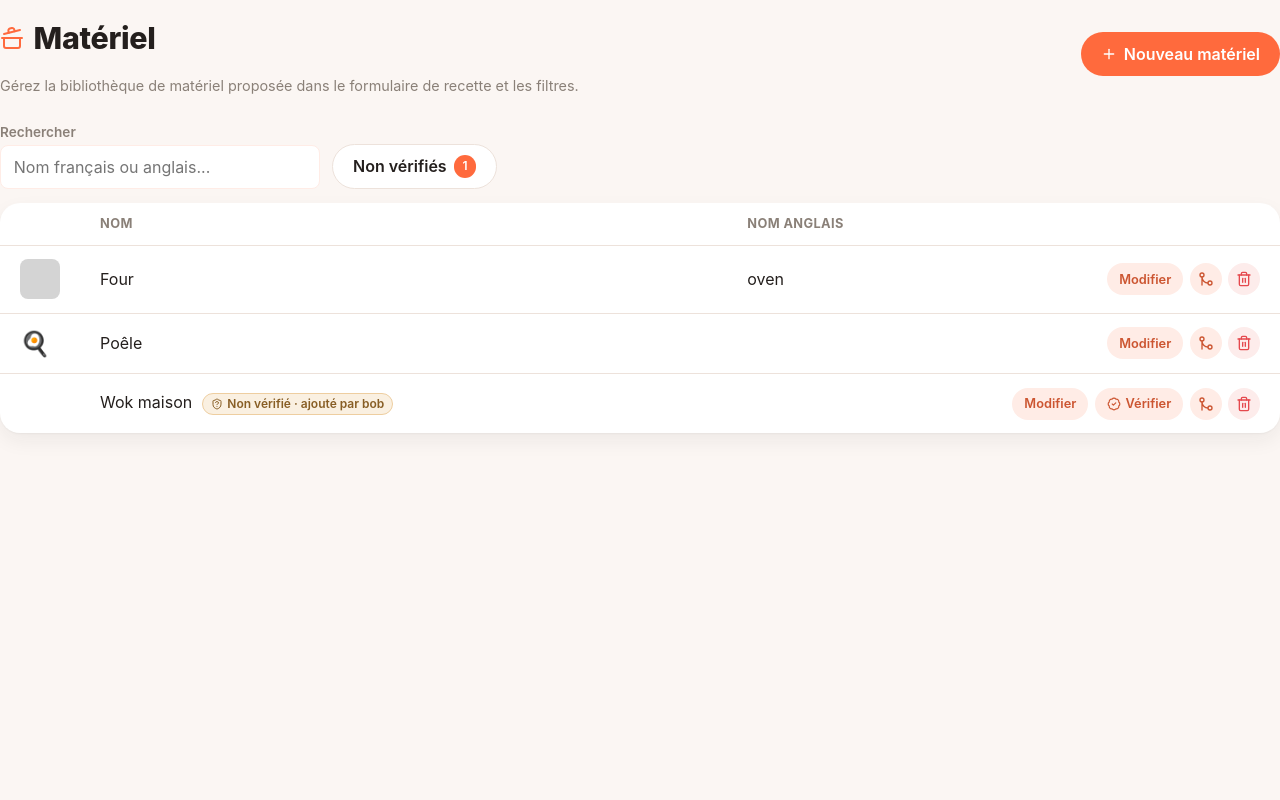
it: AdminCookwareView › review queue › merges cookware into another one picked from the list
This screenshot has width=1280, height=800.
Click the button with test id "merge" in the row of "Wok maison" at (1206, 404), box [1190, 388, 1222, 420]
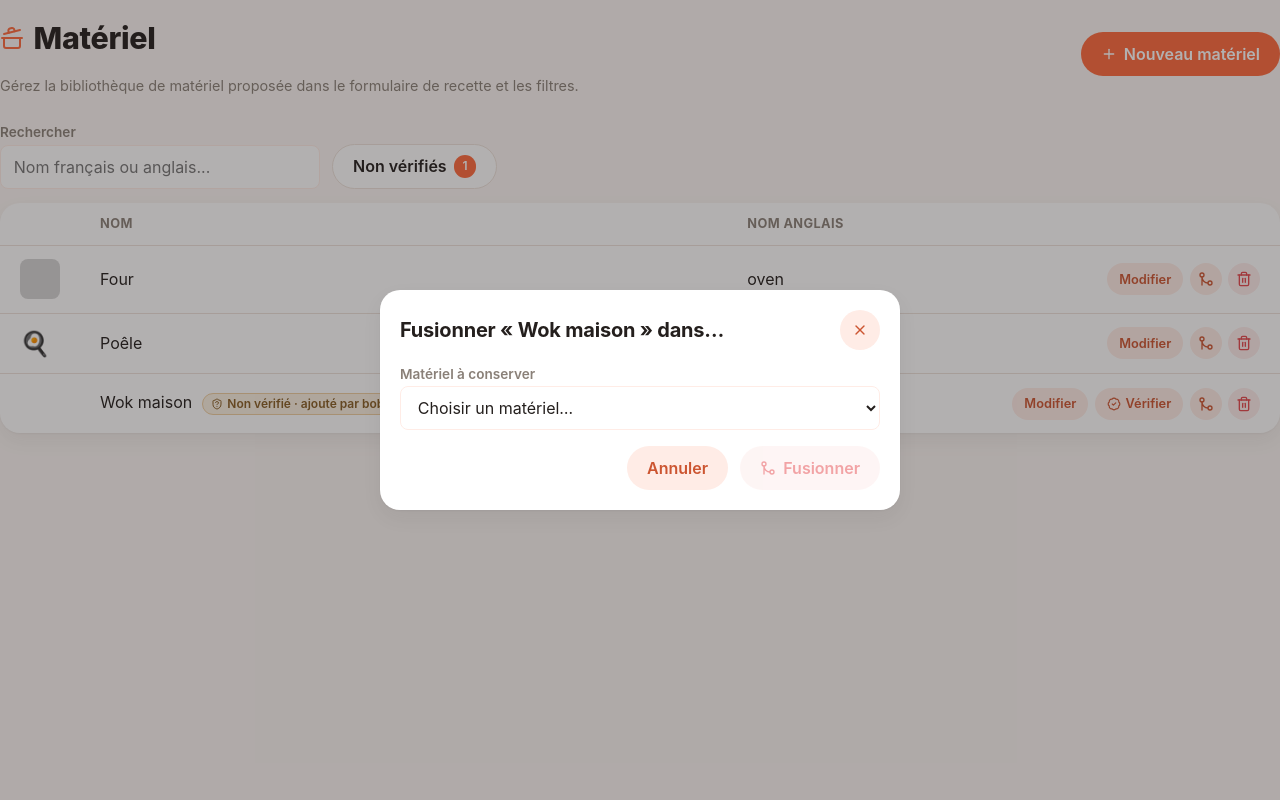
Result: the submit button is disabled at [740, 446, 880, 490]
Select "🍳 Poêle" in the dropdown with id "cookware-merge-target" at (640, 408), box [400, 386, 880, 430]
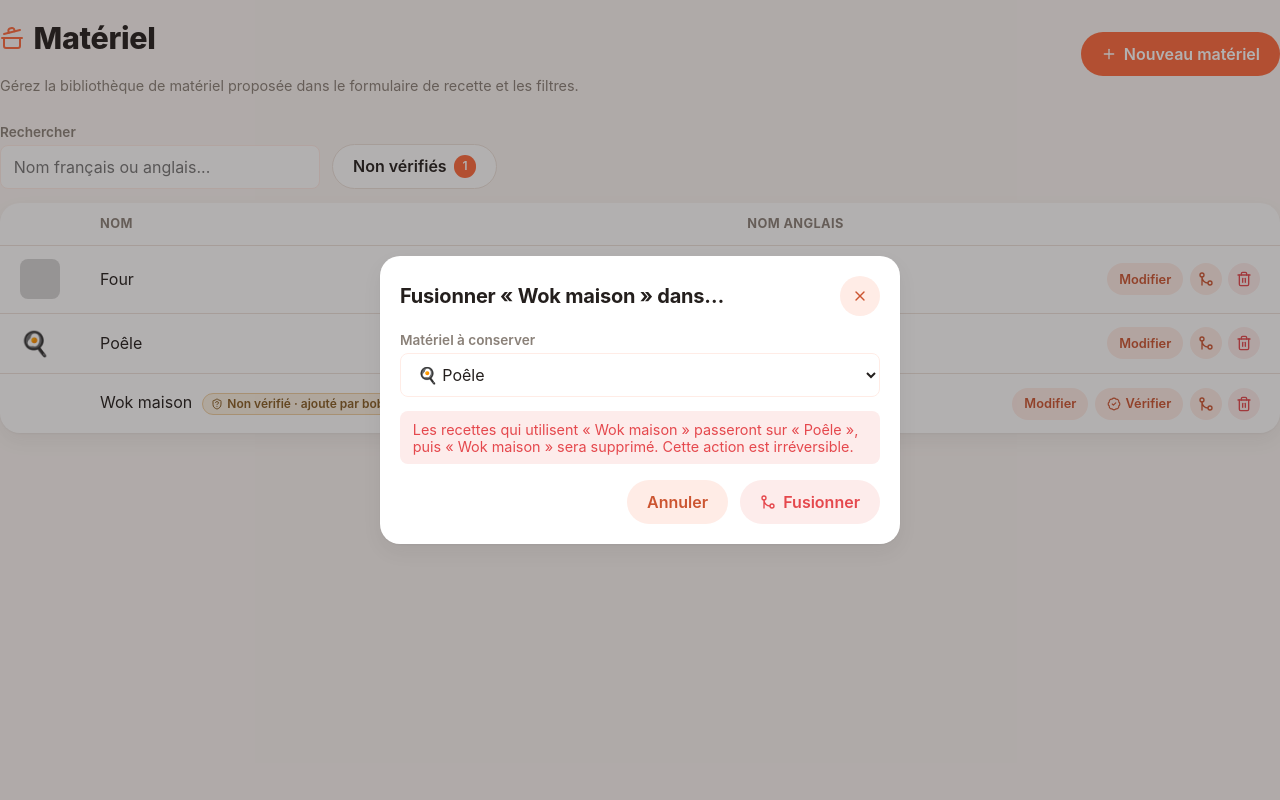
Result: the text with test id "merge-confirm" shows "Les recettes qui utilisent « Wok maison » passeront sur « Poêle »" at [413, 421, 858, 455]
Submit the form, box [400, 332, 880, 524]
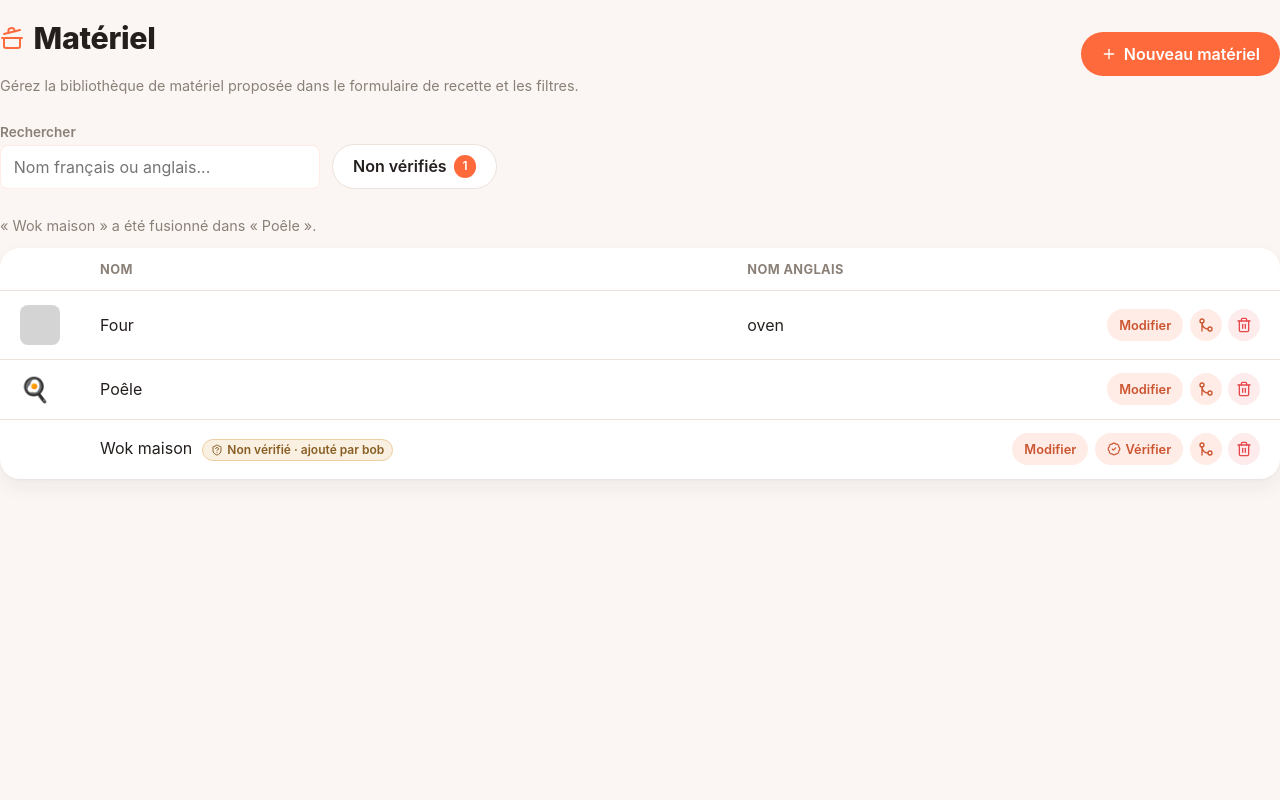
Result: the message "« Wok maison » a été fusionné dans « Poêle »." is shown at [0, 217, 316, 234]
